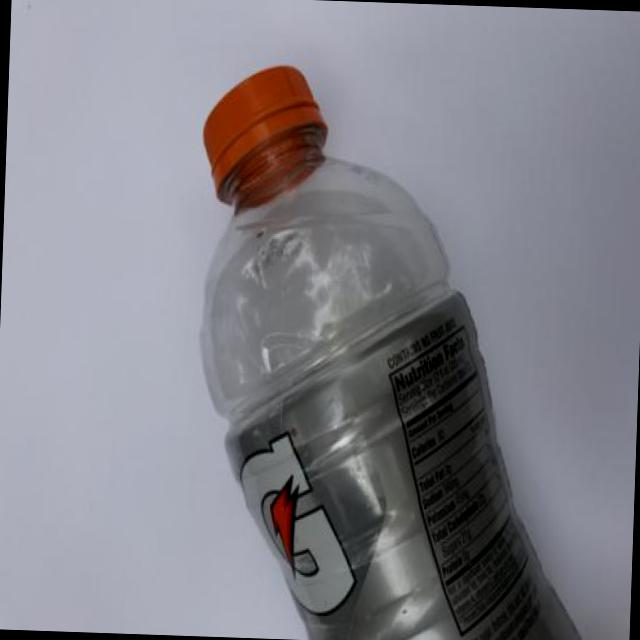plastic: (185, 51, 506, 640)
